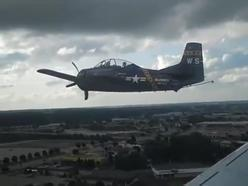aircraft: (38, 43, 205, 101)
